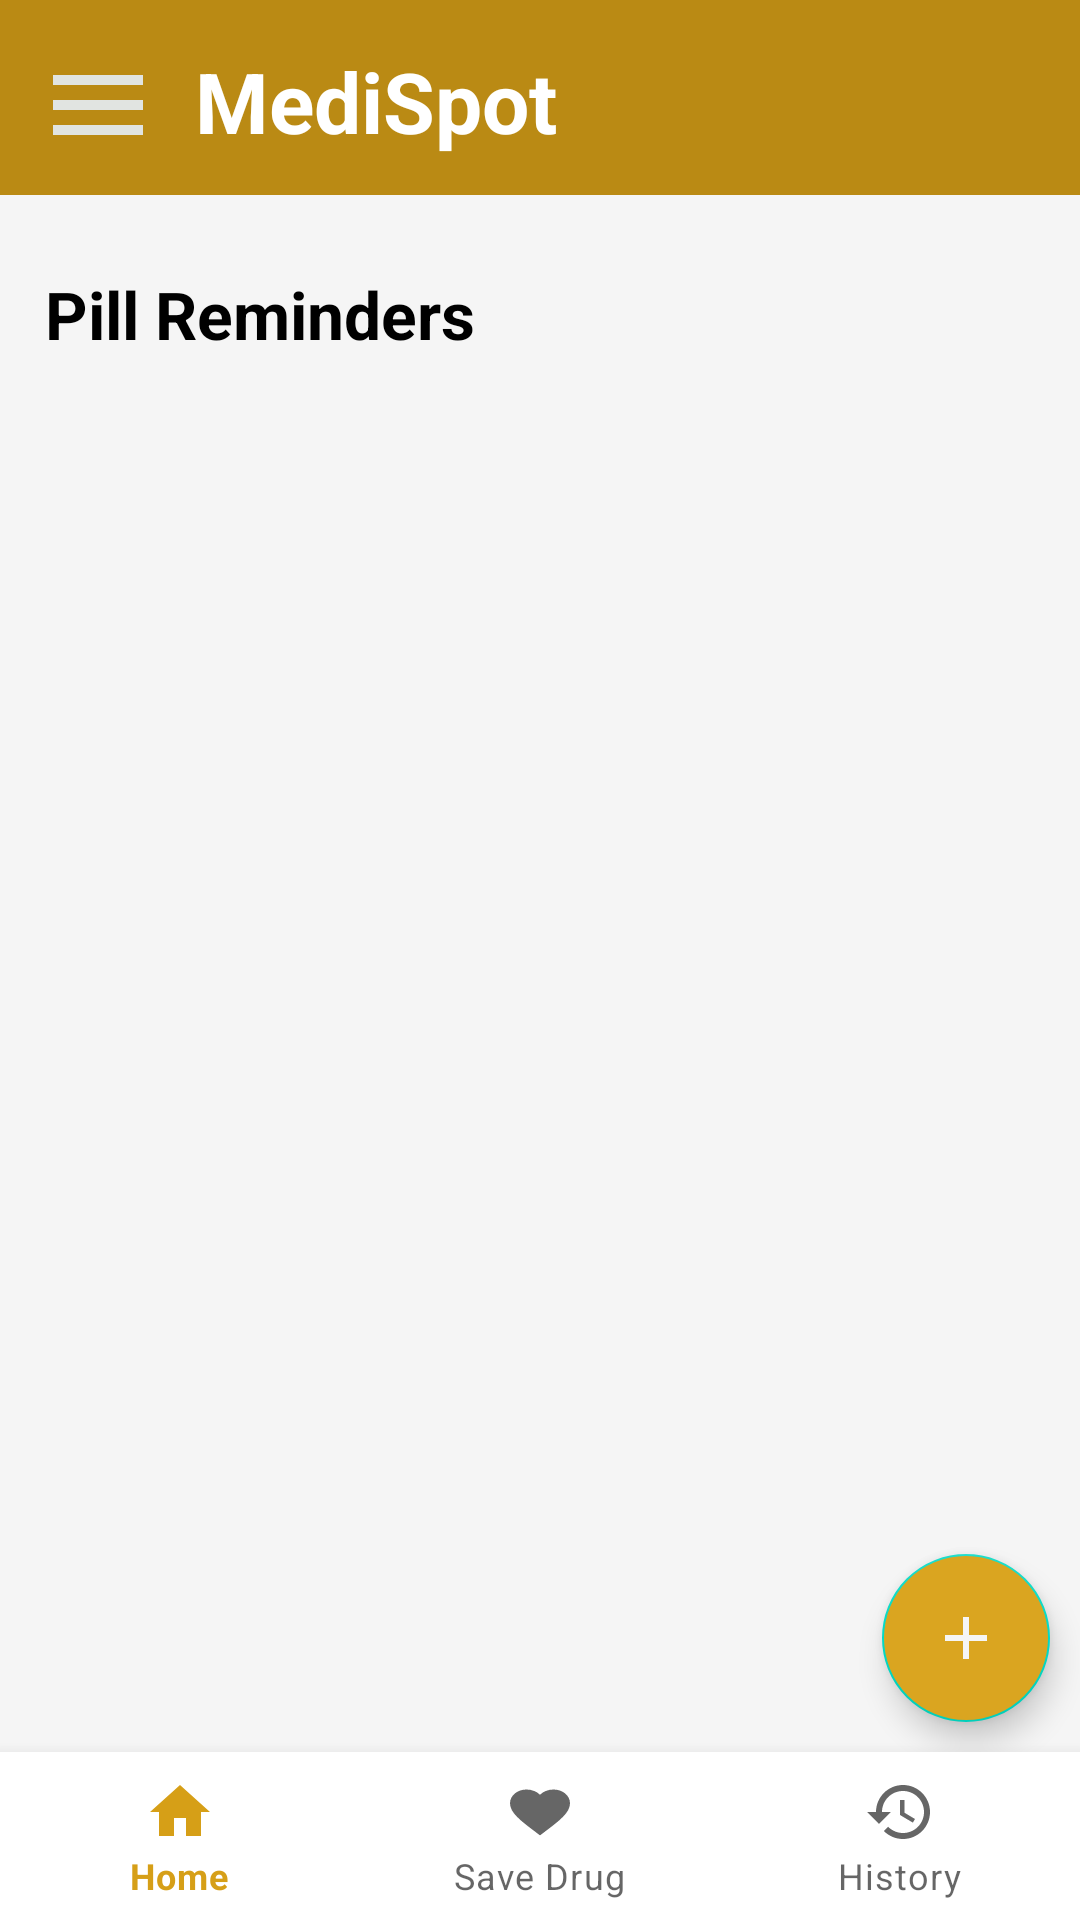

Icon click points for this 1080px x 1920px phone screenshot, format (x=x, y=y):
add: (x=966, y=1638)
menu: (x=98, y=105)
